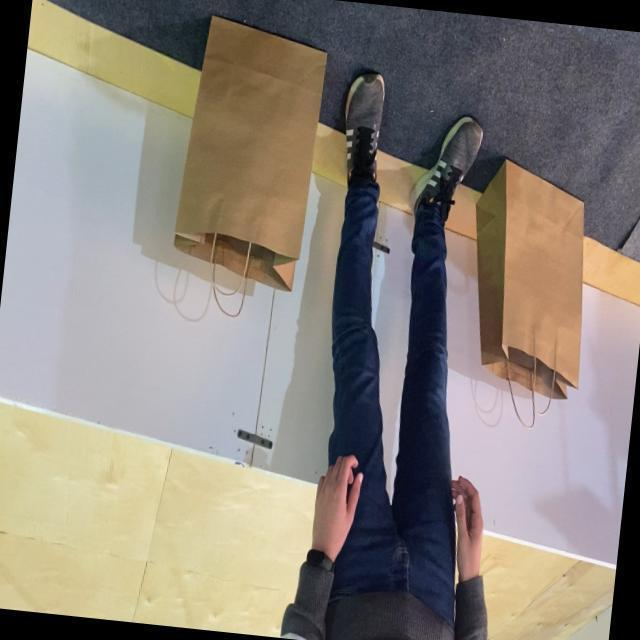Paper_Bag: (166, 13, 330, 324), (452, 156, 602, 432)
